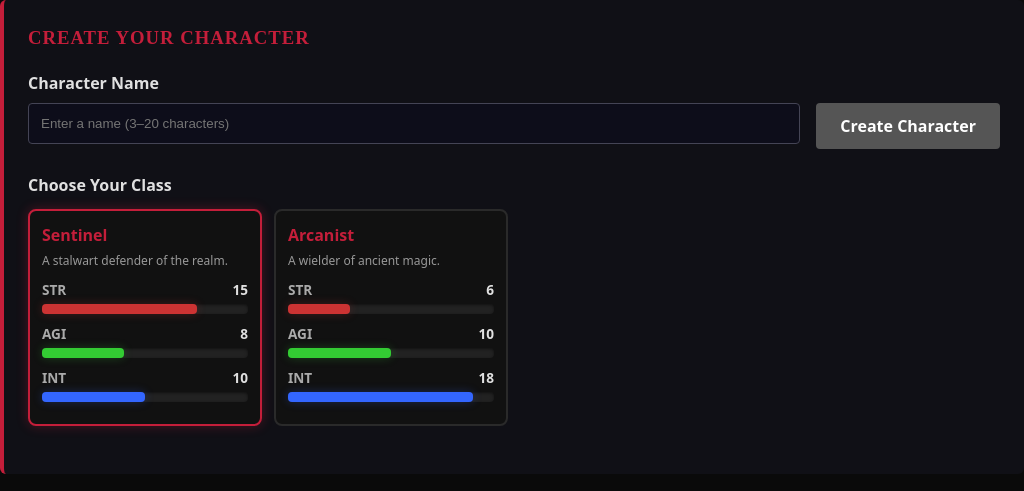
CharacterCreator › submit button disabled until class selected and valid name entered
This screenshot has width=1024, height=491.
Check: the button with test id "class-card-1" is shown, box x1=28 y1=209 x2=262 y2=426
Check: the button "Create Character" is disabled, box x1=816 y1=103 x2=1000 y2=149
Type "ValidName" into the field with placeholder "3.20 characters" at (414, 123), box x1=28 y1=103 x2=800 y2=144
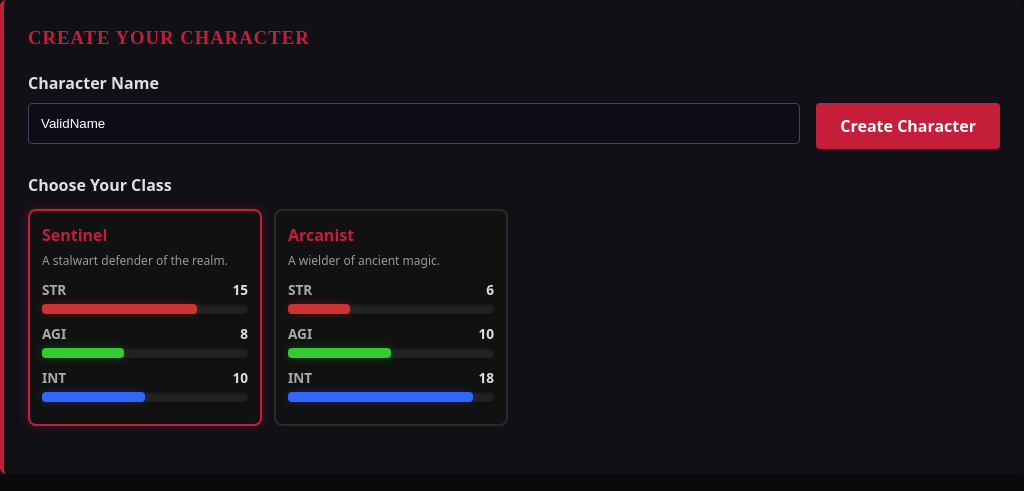
Check: the button "Create Character" is enabled, box x1=816 y1=103 x2=1000 y2=149
